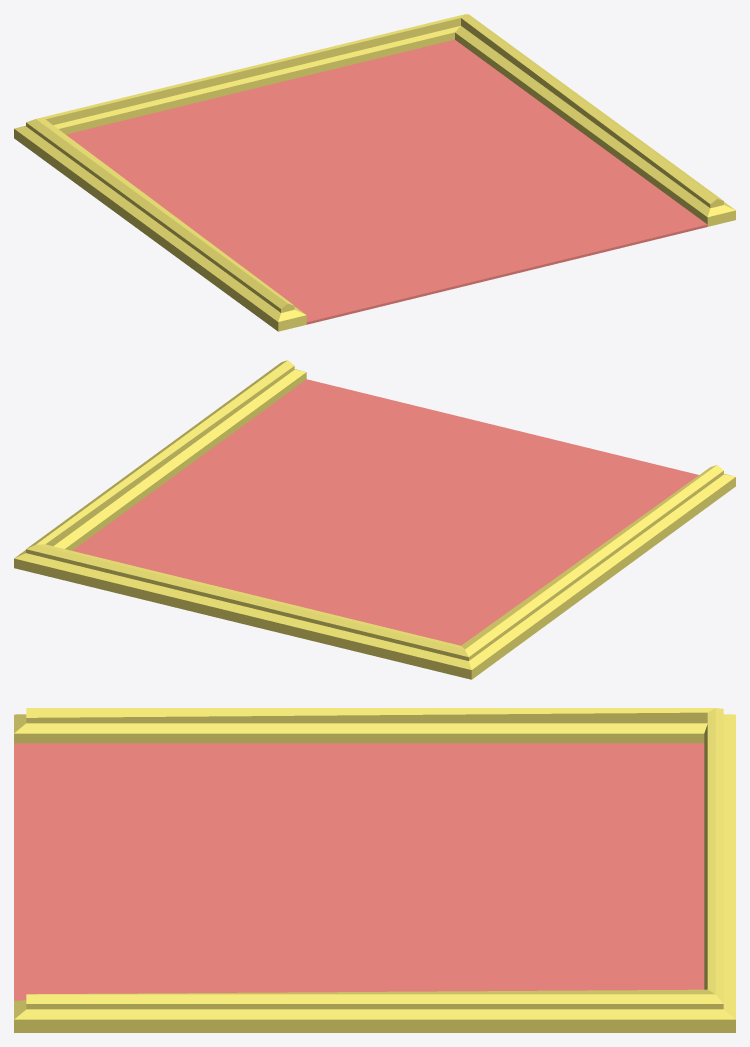
Rendered from Plataforma_do_respawn_de_peças.fbx.
3 renders of one model, top to bottom at view 1: azimuth 30°, elevation 25°; view 2: azimuth 150°, elevation 25°; view 3: azimuth 270°, elevation 25°, orthographic. The views are drawn at different scales.
Visible parts, largest first — view 1: Campo_1.001; view 2: Campo_1.001; view 3: Campo_1.001.
Boxes of the visible parts, x1,y1,x2,y2 form: Campo_1.001: [14, 14, 735, 331]; Campo_1.001: [14, 360, 735, 679]; Campo_1.001: [14, 708, 735, 1032].
Bounding box in the file's own units: 4000 × 179 × 4000.
